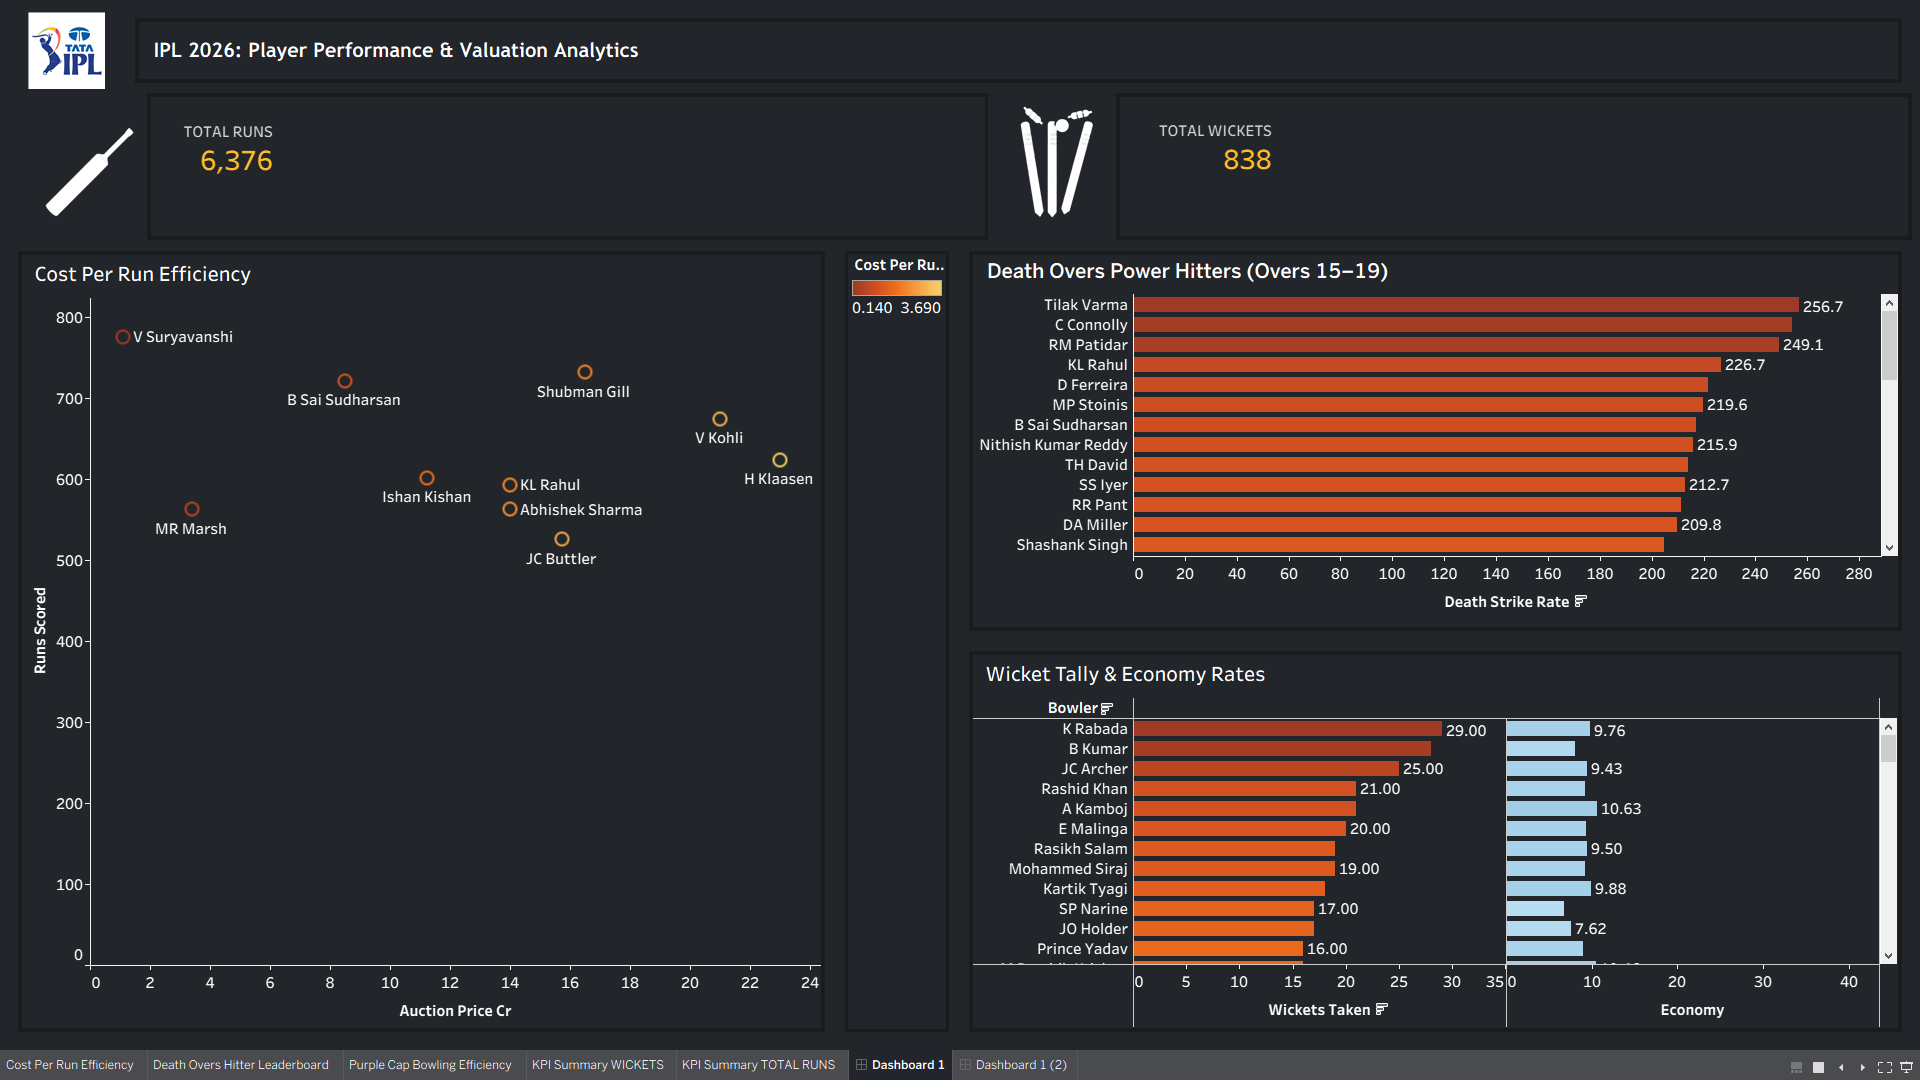

The page's visual inventory and layout, read from the dashboard file:
{"tool":"tableau","page":{"name":"Dashboard 1","canvas":[1366,768],"ordinal":0},"visuals":[{"type":"image","box":[8,8,82.8,62.1]},{"type":"text","box":[90.8,8,1267.2,62.1]},{"type":"worksheet","title":"KPI Summary TOTAL RUNS","mark":"Automatic","box":[106.4,70.1,596.7,107.1]},{"type":"worksheet","title":"KPI Summary WICKETS","mark":"Automatic","box":[793.5,70.1,564.5,107.1]},{"type":"image","param":"C:/Users/DELL/Downloads/image-removebg-preview-removebg-preview.png","box":[12.9,76.5,98.7,96.9]},{"type":"image","param":"C:/Users/DELL/Downloads/image-removebg-preview__1_-removebg-preview.png","box":[691.9,76.5,120.6,95.1]},{"type":"worksheet","title":"Cost Per Run Efficiency","mark":"Automatic","rows":["Runs_Scored"],"cols":["Auction_Price_Cr"],"box":[8,177.2,586.4,582.8]},{"type":"legend","title":"Cost Per Run Efficiency","param":"[federated.1h2m1cl05vkiby0ztwdk50etae66].[sum:Cost_Per_Run_Lakhs:qk]","box":[594.4,177.2,88.1,582.8]},{"type":"worksheet","title":"Death Overs Hitter Leaderboard","mark":"Automatic","rows":["batter (ipl_2026_death_overs.csv)"],"cols":["Death_Strike_Rate"],"box":[682.5,177.2,675.5,291.2]},{"type":"worksheet","title":"Purple Cap Bowling Efficiency","mark":"Automatic","rows":["Bowler"],"cols":["Wickets Taken","Economy"],"box":[682.5,468.4,675.5,291.6]}]}

Visuals, with their boxes on the page's 1366x768 design canvas (x1, y1, x2, y2). These are canvas units, not pixel positions in the 1920x1080 screenshot, which may show the page scaled, cropped or inside an application window:
image: box=[8, 8, 91, 70]
text: box=[91, 8, 1358, 70]
"KPI Summary TOTAL RUNS" worksheet: box=[106, 70, 703, 177]
"KPI Summary WICKETS" worksheet: box=[794, 70, 1358, 177]
image: box=[13, 76, 112, 173]
image: box=[692, 76, 812, 172]
"Cost Per Run Efficiency" worksheet: box=[8, 177, 594, 760]
"Cost Per Run Efficiency" legend: box=[594, 177, 682, 760]
"Death Overs Hitter Leaderboard" worksheet: box=[682, 177, 1358, 468]
"Purple Cap Bowling Efficiency" worksheet: box=[682, 468, 1358, 760]
